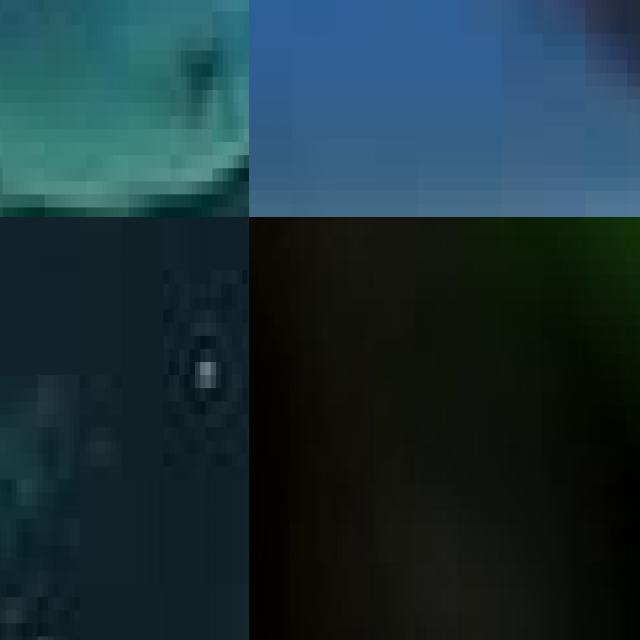fish: (249, 0, 640, 178), (0, 0, 249, 217)
